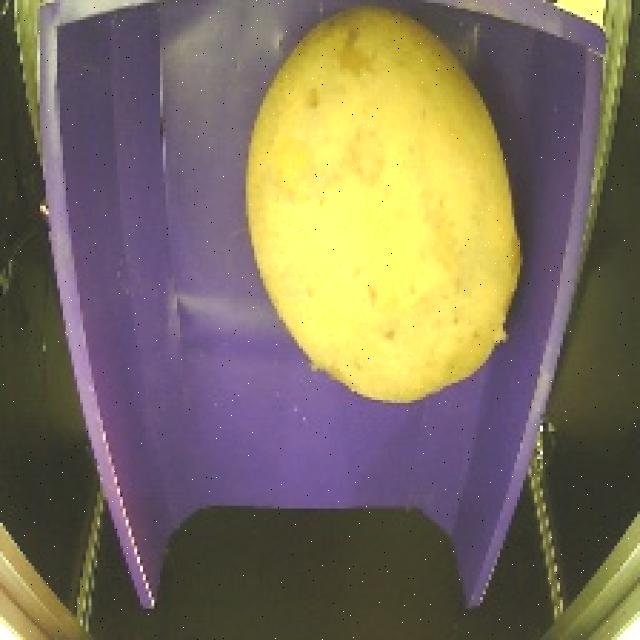full_potato: (235, 0, 538, 420)
